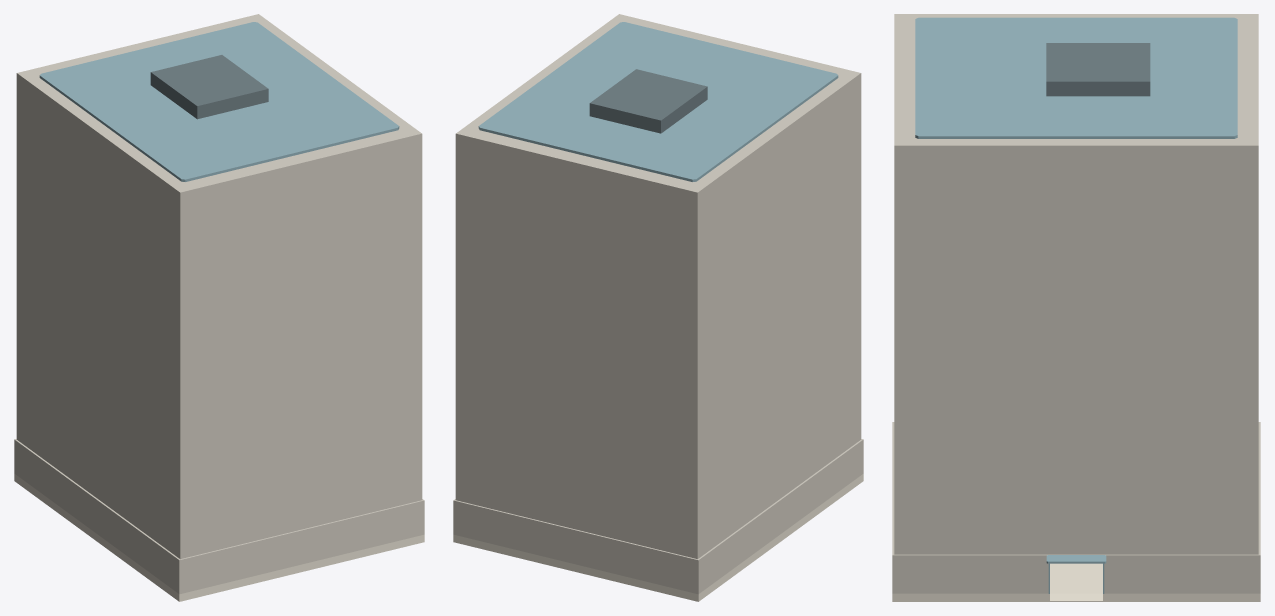
Rendered from Metro_MixedResidence_ShadowProxy.glb.
3 views of the same model, side by side, from view 1: azimuth 30°, elevation 25°; view 2: azimuth 150°, elevation 25°; view 3: azimuth 270°, elevation 25° (orthographic). The views are drawn at different scales.
Parts seen in each view (by area): view 1: Metro_MixedResidence_ShadowProxy / Structure, Metro_MixedResidence_ShadowProxy / Roof, Metro_MixedResidence_ShadowProxy / Foundation; view 2: Metro_MixedResidence_ShadowProxy / Structure, Metro_MixedResidence_ShadowProxy / Roof, Metro_MixedResidence_ShadowProxy / Foundation; view 3: Metro_MixedResidence_ShadowProxy / Structure, Metro_MixedResidence_ShadowProxy / Roof, Metro_MixedResidence_ShadowProxy / Foundation, Metro_MixedResidence_ShadowProxy / Entrance modules.
Part boxes in pixels (x1,y1,x2,y2): Metro_MixedResidence_ShadowProxy / Structure: (14, 14, 424, 594); Metro_MixedResidence_ShadowProxy / Roof: (39, 22, 399, 181); Metro_MixedResidence_ShadowProxy / Foundation: (14, 474, 424, 601); Metro_MixedResidence_ShadowProxy / Structure: (453, 14, 863, 594); Metro_MixedResidence_ShadowProxy / Roof: (478, 22, 838, 181); Metro_MixedResidence_ShadowProxy / Foundation: (453, 474, 863, 601); Metro_MixedResidence_ShadowProxy / Structure: (892, 14, 1260, 593); Metro_MixedResidence_ShadowProxy / Roof: (915, 17, 1237, 138); Metro_MixedResidence_ShadowProxy / Foundation: (892, 563, 1260, 601); Metro_MixedResidence_ShadowProxy / Entrance modules: (1046, 555, 1106, 601).
Bounding box in the file's own units: 25.2 × 39.65 × 28.
